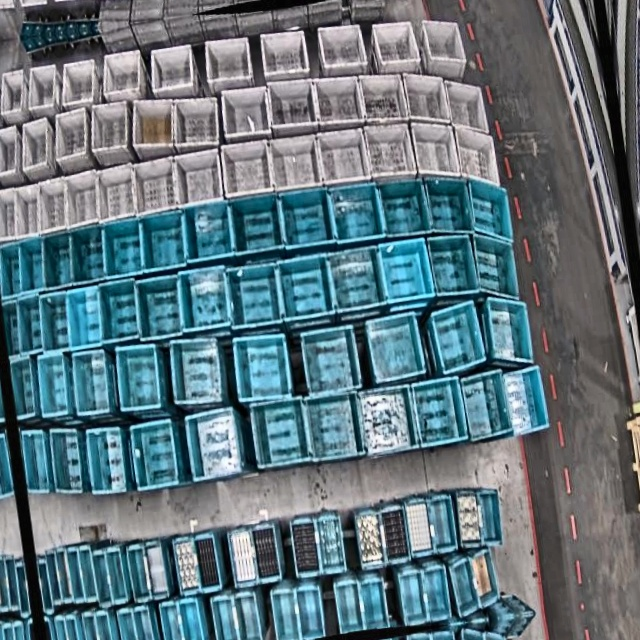Box: (298, 323, 364, 400), (230, 329, 295, 405), (364, 309, 428, 386), (429, 298, 489, 377), (355, 384, 418, 459), (275, 251, 339, 324), (251, 396, 314, 470), (184, 406, 244, 483), (326, 243, 388, 317), (409, 374, 469, 450), (167, 335, 226, 410), (276, 184, 338, 254), (304, 391, 362, 465), (460, 368, 517, 443), (378, 235, 437, 307), (226, 260, 286, 330), (424, 229, 481, 302), (175, 265, 233, 334), (327, 179, 385, 248), (421, 170, 477, 241), (229, 192, 288, 259), (377, 173, 434, 242), (180, 199, 238, 266), (364, 119, 420, 188), (450, 122, 504, 193), (130, 417, 181, 491), (315, 126, 371, 193), (487, 292, 535, 370), (114, 342, 166, 413), (472, 230, 520, 306), (502, 365, 553, 436), (132, 274, 185, 341), (138, 208, 192, 273), (407, 118, 460, 184), (467, 173, 514, 247), (218, 138, 275, 199), (171, 147, 227, 209), (218, 83, 274, 145), (267, 131, 323, 192), (266, 74, 322, 135), (167, 93, 224, 152), (357, 68, 412, 128), (310, 71, 365, 131), (83, 424, 130, 494), (94, 278, 143, 345), (68, 348, 114, 417), (402, 67, 453, 129), (130, 156, 181, 216), (96, 46, 147, 106), (100, 217, 148, 280), (126, 95, 179, 152), (445, 75, 491, 139), (54, 55, 104, 113), (92, 162, 139, 223), (46, 426, 86, 497), (65, 286, 108, 350), (61, 170, 105, 231), (68, 223, 110, 285), (32, 177, 75, 237), (85, 100, 132, 153), (35, 352, 72, 419), (317, 22, 368, 70), (259, 28, 310, 76), (202, 36, 253, 84), (421, 15, 468, 67), (38, 229, 78, 290), (7, 183, 48, 241), (372, 18, 421, 65), (38, 291, 75, 353), (49, 107, 92, 160), (147, 45, 195, 92), (7, 356, 40, 422), (312, 512, 346, 576), (13, 234, 49, 294), (18, 429, 50, 496), (427, 492, 461, 555), (356, 506, 389, 570), (453, 486, 486, 550), (0, 66, 35, 126), (403, 496, 436, 559), (378, 504, 411, 566), (14, 295, 48, 355), (17, 117, 54, 172), (290, 515, 322, 578), (251, 521, 283, 583), (449, 557, 481, 618), (475, 489, 507, 550), (192, 531, 222, 593), (229, 526, 259, 588), (471, 548, 501, 610), (421, 565, 453, 623), (23, 63, 62, 109), (295, 585, 327, 640), (172, 534, 200, 596), (358, 576, 390, 630), (398, 573, 428, 630), (333, 582, 364, 634), (144, 538, 170, 599), (269, 591, 300, 640), (125, 542, 150, 602), (233, 592, 264, 640), (90, 549, 114, 609), (0, 241, 25, 298), (210, 595, 240, 640), (104, 544, 126, 604), (64, 544, 86, 604), (76, 543, 98, 602), (0, 125, 23, 179), (53, 546, 74, 605), (43, 549, 63, 608), (177, 599, 205, 640), (0, 187, 21, 241), (159, 599, 186, 640), (37, 558, 55, 615), (131, 605, 158, 640), (116, 607, 141, 640), (95, 609, 118, 640), (81, 611, 103, 640), (63, 614, 84, 640), (54, 615, 73, 640), (0, 77, 6, 134), (44, 617, 57, 640), (0, 188, 3, 243)
